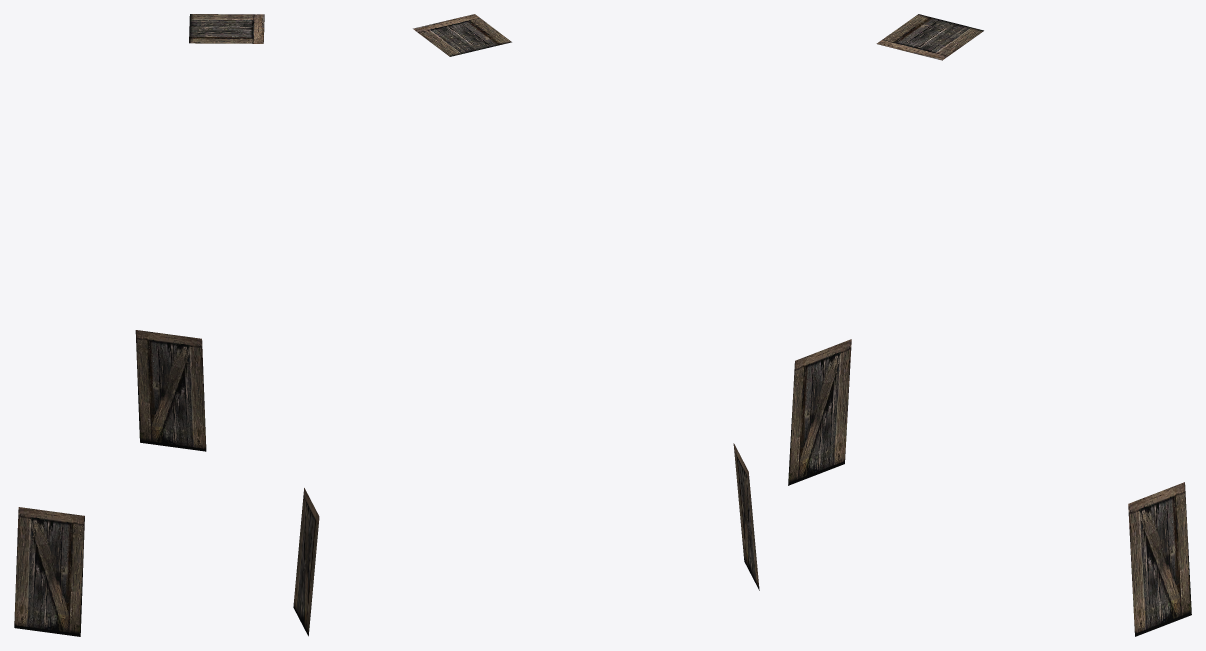
File: celt_broch_doors.dae
3 renders of one model, left to right at view 1: azimuth 30°, elevation 25°; view 2: azimuth 150°, elevation 25°; view 3: azimuth 270°, elevation 25°, orthographic. The views are drawn at different scales.
Visible parts, largest first — view 1: door04-Pivot; view 2: door04-Pivot; view 3: door04-Pivot.
Part boxes in pixels (x1=…): door04-Pivot: x1=14, y1=14, x2=264, y2=636; door04-Pivot: x1=293, y1=14, x2=759, y2=636; door04-Pivot: x1=788, y1=14, x2=1191, y2=636.
Bounding box in the file's own units: 11.89 × 11.65 × 17.89.
